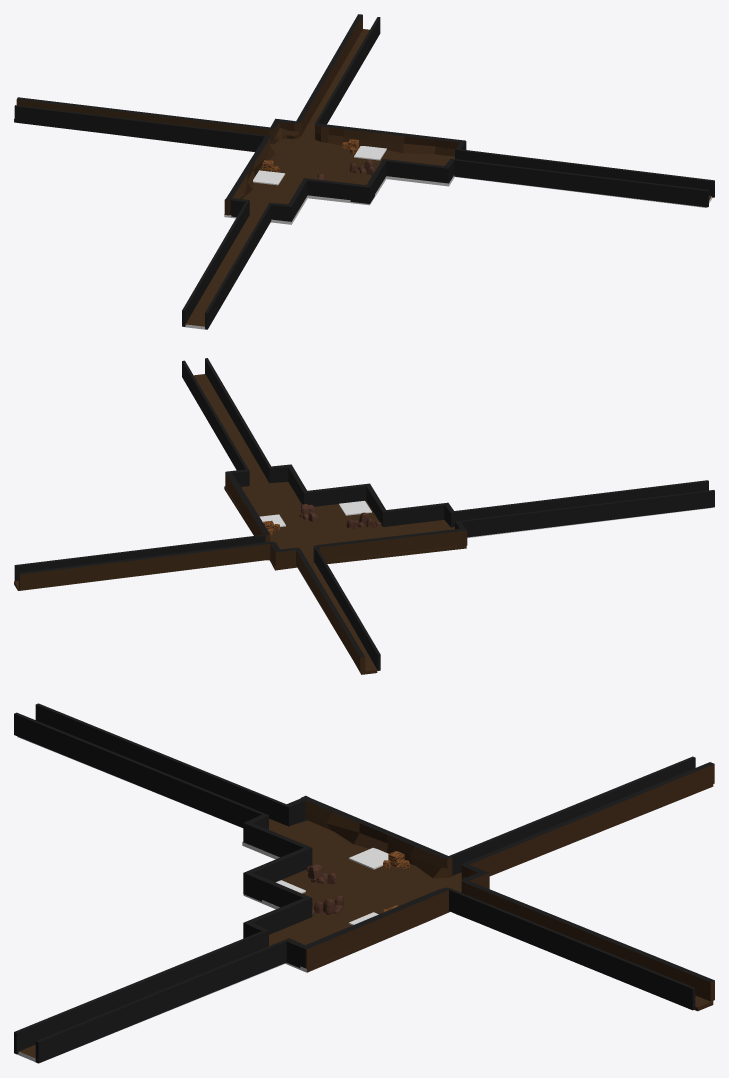
Rendered from sala13DET.fbx.
3 views of the same model, one above another, from view 1: azimuth 30°, elevation 25°; view 2: azimuth 150°, elevation 25°; view 3: azimuth 270°, elevation 25° (orthographic). The views are drawn at different scales.
Visible parts, largest first — view 1: paredes_der_abajo14, suelo 14, paredes_izq_arriba14, conjunto_trampas; view 2: paredes_der_abajo14, paredes_izq_arriba14, suelo 14, conjunto_rocas, conjunto_trampas; view 3: paredes_der_abajo14, paredes_izq_arriba14, suelo 14, conjunto_rocas, conjunto_trampas.
Boxes of the visible parts, x1,y1,x2,y2 form: paredes_der_abajo14: (14,17,714,329); suelo 14: (14,29,712,329); paredes_izq_arriba14: (16,14,465,215); conjunto_trampas: (253,146,386,185); paredes_der_abajo14: (14,358,714,670); paredes_izq_arriba14: (18,471,467,672); suelo 14: (14,374,711,674); conjunto_rocas: (299,504,381,528); conjunto_trampas: (259,500,371,526); paredes_der_abajo14: (14,703,695,1063); paredes_izq_arriba14: (301,762,714,1001); suelo 14: (17,736,713,1061); conjunto_rocas: (306,864,344,915); conjunto_trampas: (276,848,388,925).
Size of the model in its own units: 13659 by 431 by 11938.
